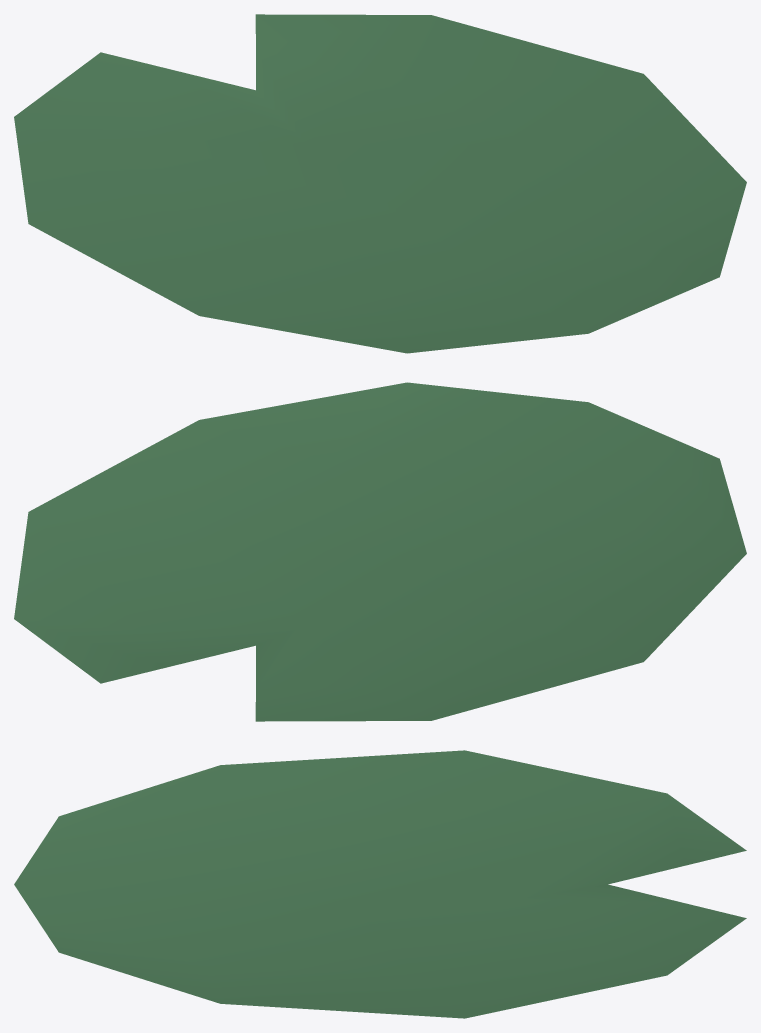
Rendered from water-lily-leaf-1.glb.
3 views of the same model, one above another, from view 1: azimuth 30°, elevation 25°; view 2: azimuth 150°, elevation 25°; view 3: azimuth 270°, elevation 25° (orthographic). The views are drawn at different scales.
Visible parts, largest first — view 1: water-lily-leaf-1-mesh; view 2: water-lily-leaf-1-mesh; view 3: water-lily-leaf-1-mesh.
Part boxes in pixels (x1,y1,x2,y2): water-lily-leaf-1-mesh: (14, 14, 746, 353); water-lily-leaf-1-mesh: (14, 382, 746, 721); water-lily-leaf-1-mesh: (14, 750, 746, 1018).
Size of the model in its own units: 22.6 by 0.5871 by 26.11.
